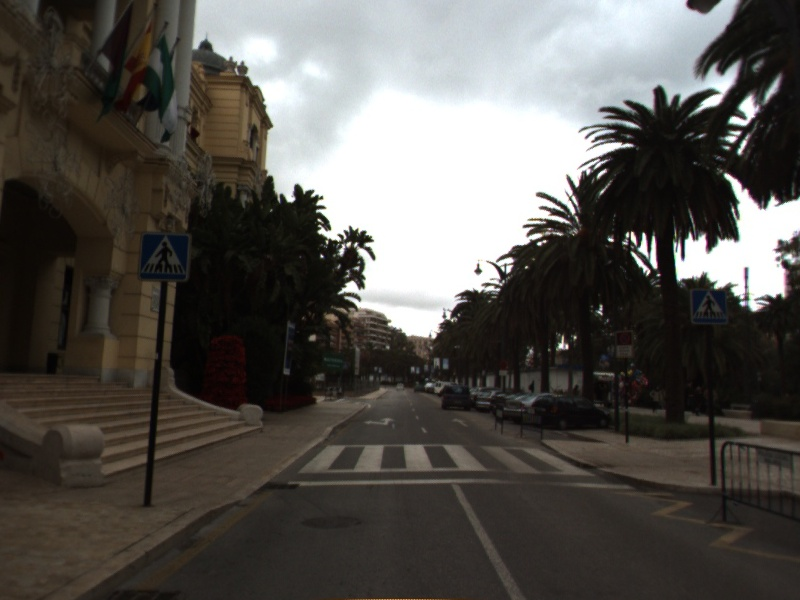STRAIGHT: (449, 415, 471, 429)
STRAIGHT_LEFT: (361, 415, 398, 428)
